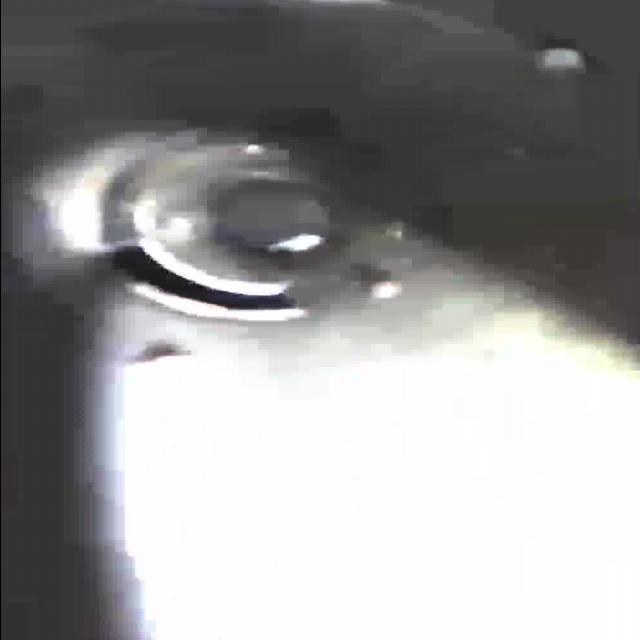hole: (86, 235, 312, 328)
